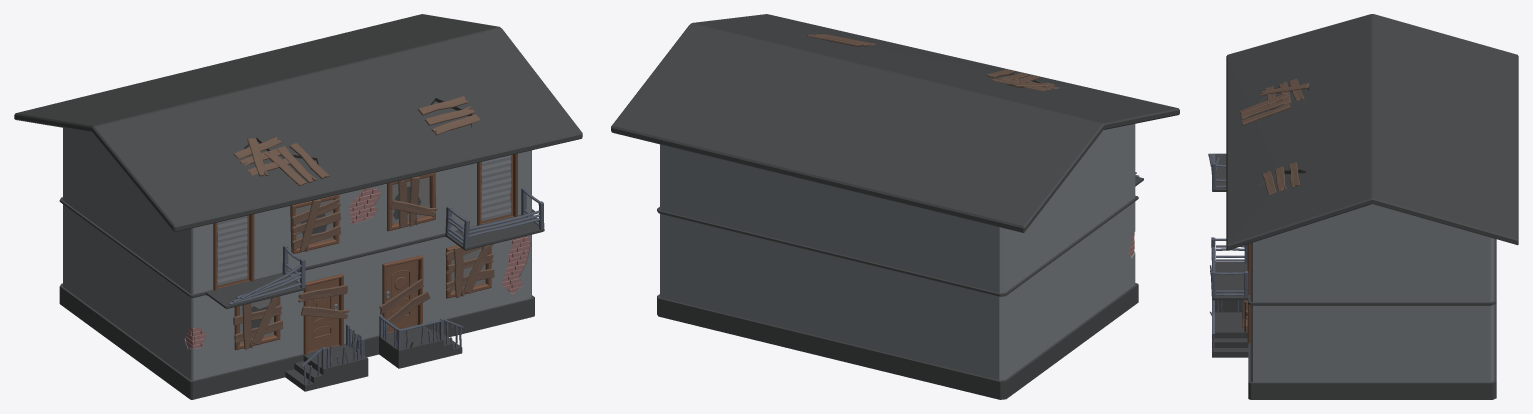
File: Building_1.fbx
The picture shows the model from 3 angles, left to right: view 1: azimuth 30°, elevation 25°; view 2: azimuth 150°, elevation 25°; view 3: azimuth 270°, elevation 25°; orthographic projection. The views are drawn at different scales.
Visible parts, largest first — view 1: Building_2.003; view 2: Building_2.003; view 3: Building_2.003.
Boxes of the visible parts, left/top/right/bottom form: Building_2.003: left=14, top=14, right=582, bottom=399; Building_2.003: left=611, top=14, right=1179, bottom=399; Building_2.003: left=1208, top=14, right=1518, bottom=399.
Bounding box in the file's own units: 1451 × 781 × 1019.
